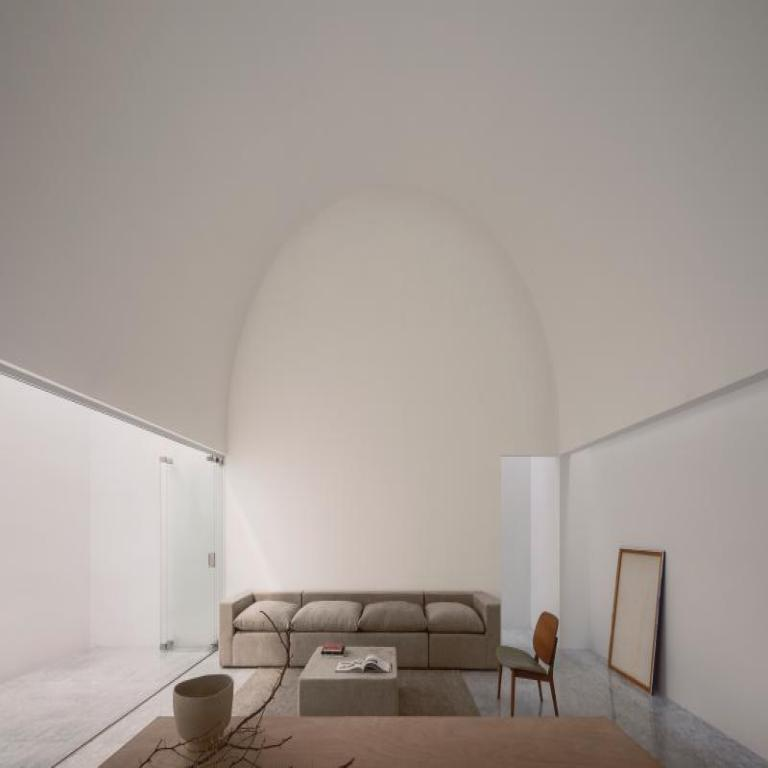white-walls: (235, 292, 529, 570)
